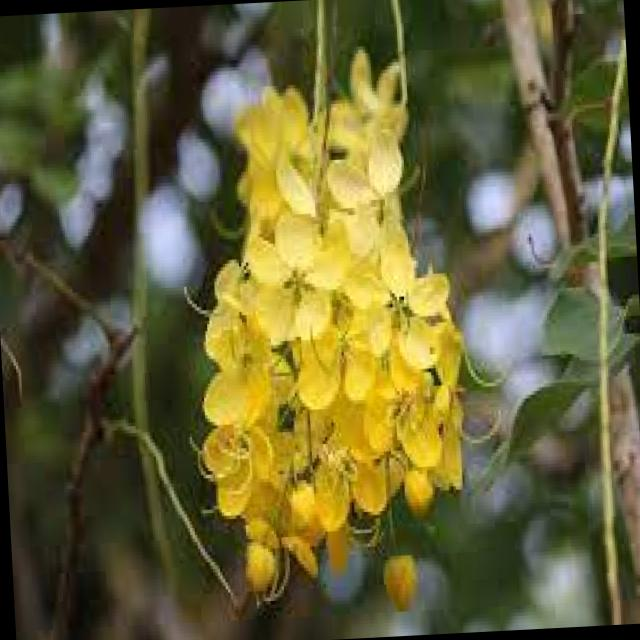Amaltas: (181, 66, 475, 640), (190, 234, 381, 526), (246, 150, 410, 408)
